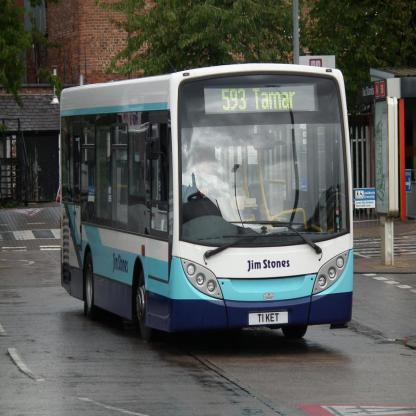Bus: (60, 63, 354, 343)
